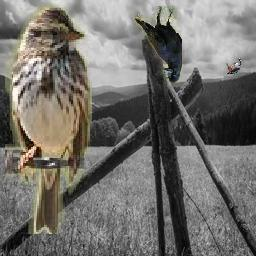Crow: (136, 7, 183, 84)
Sparrow: (6, 4, 93, 235)
Woodpecker: (225, 58, 241, 75)
